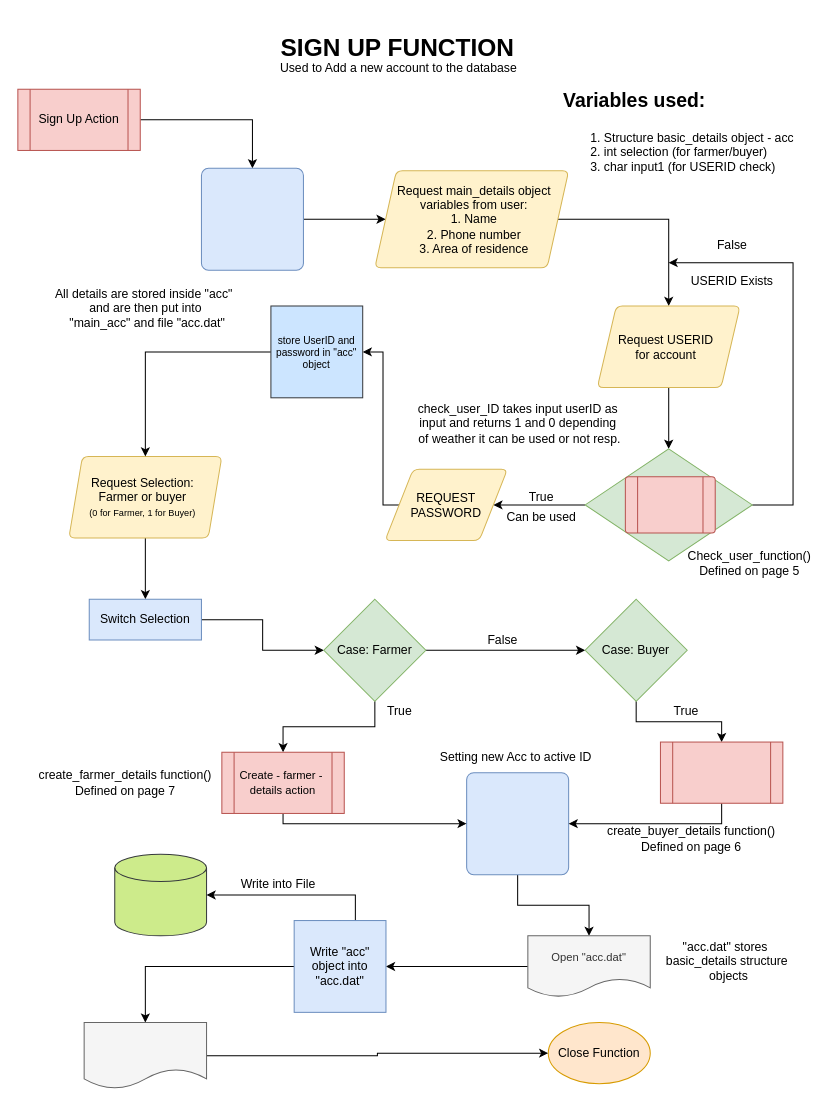
Some shapes in this 838 by 1107 pixel diagram are drawn without their labels. Each missing label, with the centre of its shape:
acc.dat: (160,894)
CHECK USERID EXISTS PROCESS: (669,504)
Close "acc.dat": (145,1055)
Copy "acc" into "main_acc": (517,823)
Create - buyer - details action: (721,772)
Initialize sample main_details structure object "acc": (251,218)
